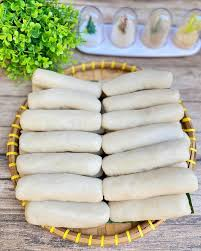Pempek lenjer: (99, 138, 192, 176), (28, 59, 101, 99), (102, 121, 190, 153), (103, 170, 198, 199), (11, 175, 106, 204), (21, 198, 111, 227), (111, 192, 195, 223), (14, 152, 104, 179), (16, 128, 102, 156), (20, 105, 100, 134), (98, 105, 186, 130), (24, 89, 102, 113), (101, 72, 179, 95), (102, 89, 183, 110)
